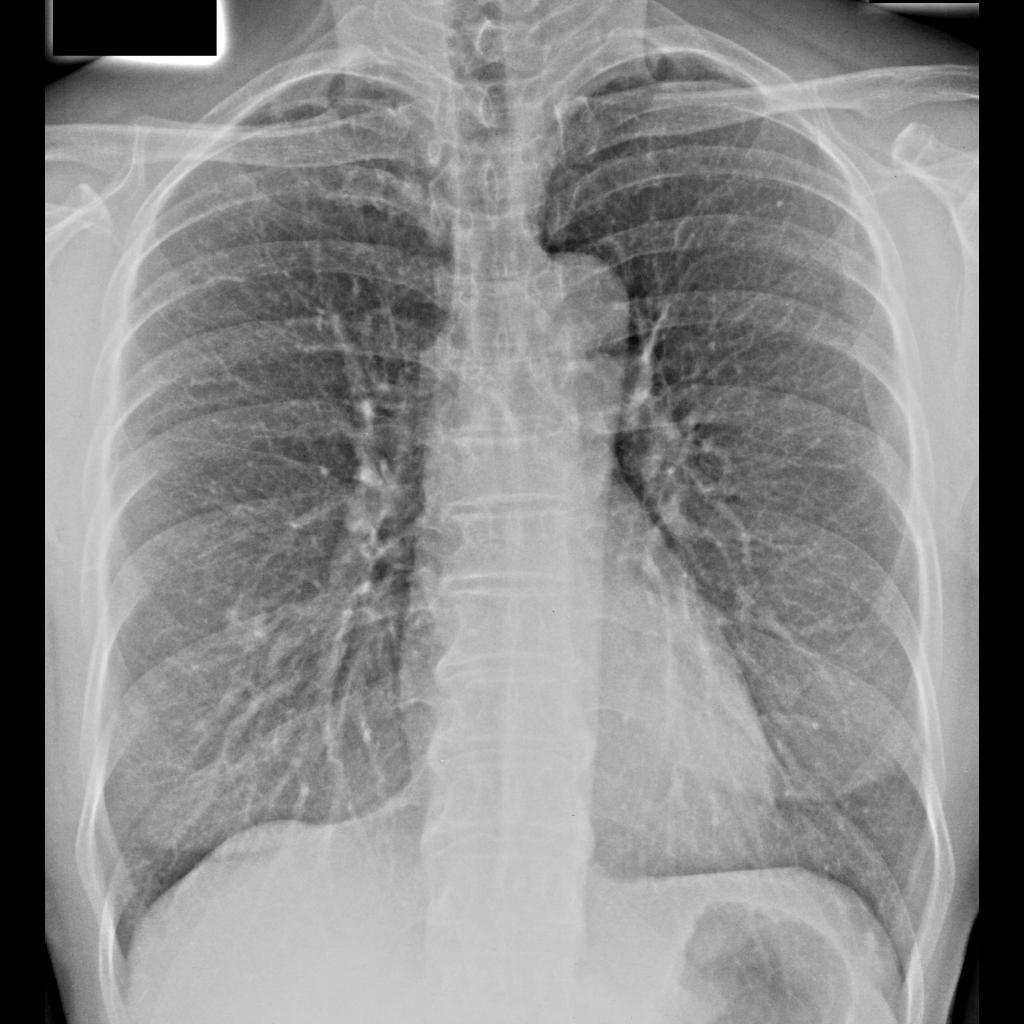Nodule: (220, 596, 271, 647)
